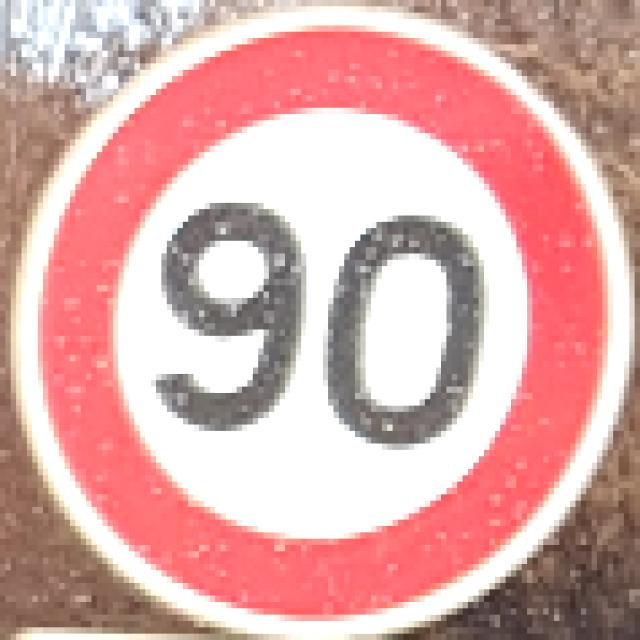speed_90: (0, 0, 635, 634)
